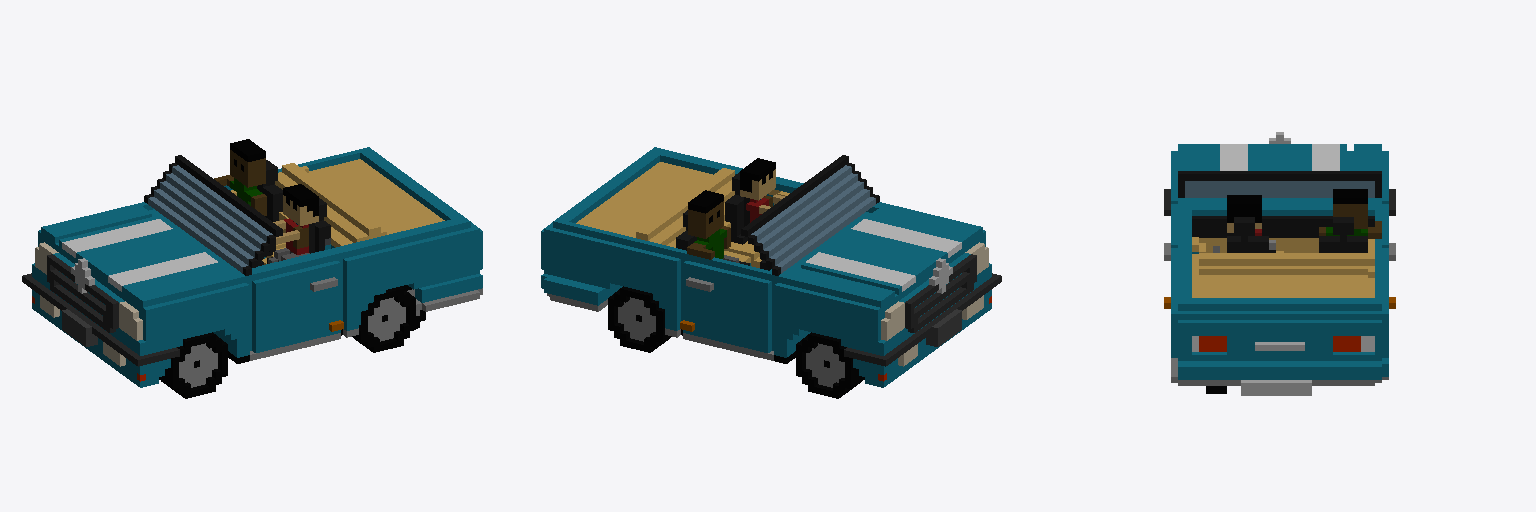
3 renders of one model, left to right at view 1: azimuth 30°, elevation 25°; view 2: azimuth 150°, elevation 25°; view 3: azimuth 270°, elevation 25°, orthographic.
Parts seen in each view (by area): view 1: object 1; view 2: object 1; view 3: object 1.
Part boxes in pixels (bbox=[...]): object 1: bbox=[22, 139, 482, 398]; object 1: bbox=[541, 147, 1001, 398]; object 1: bbox=[1164, 132, 1395, 395].
Bounding box in the file's own units: 6 × 2.4 × 3.3.
Materials: 1 (1 with a texture image).